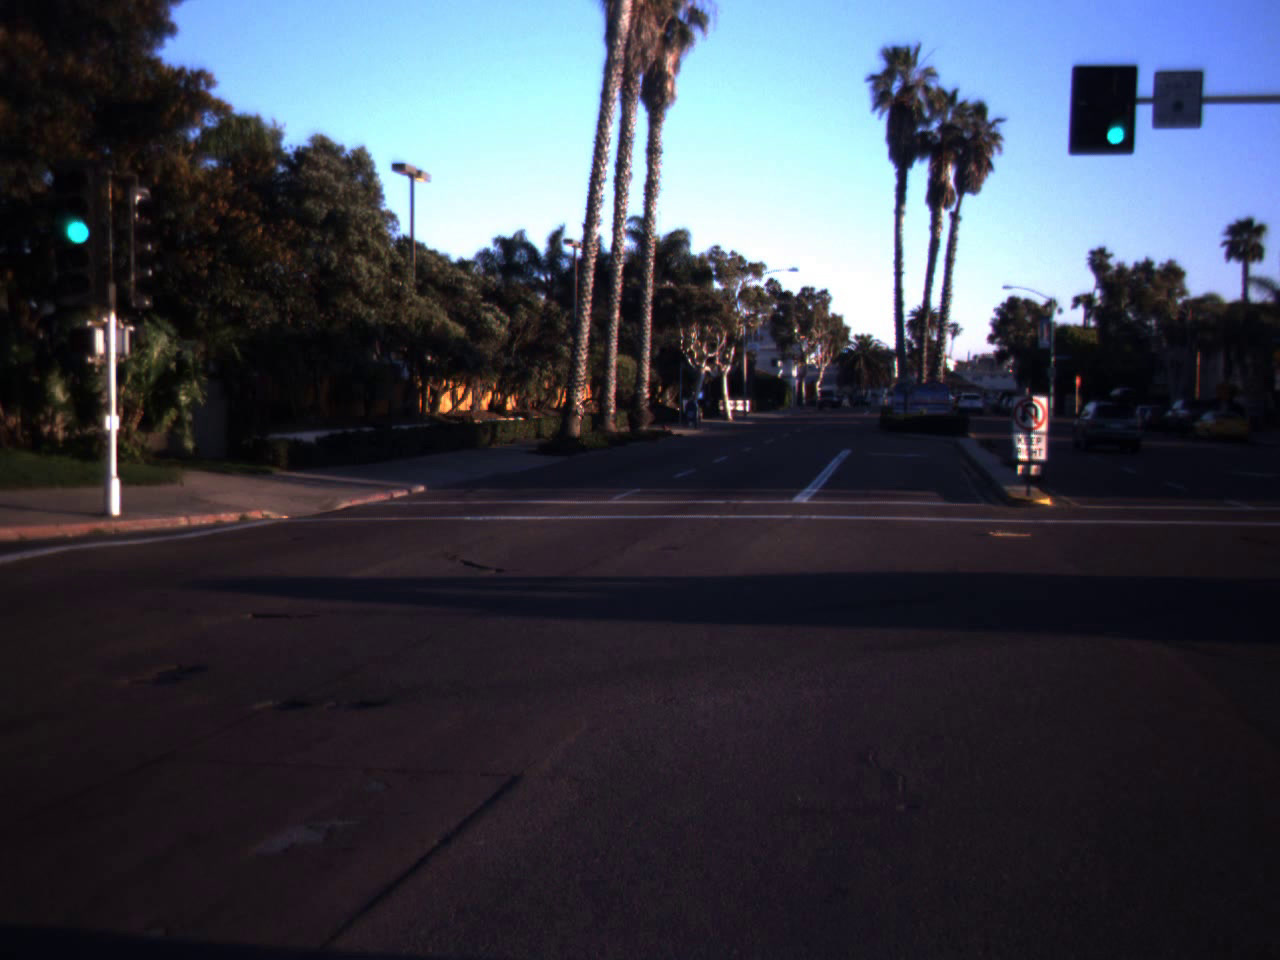go: (48, 152, 108, 252), (1093, 72, 1138, 152)
